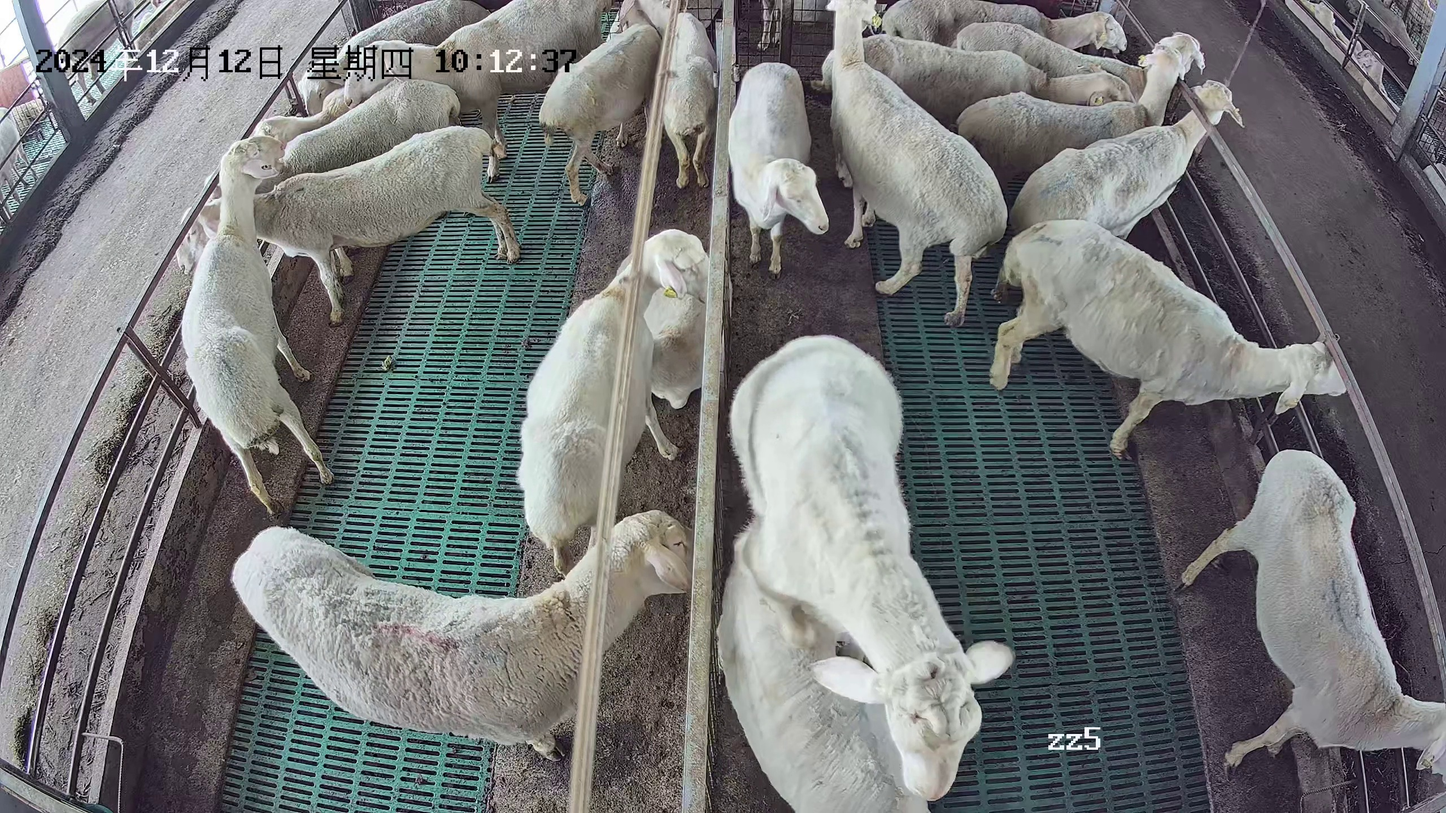Smounting: (710, 333, 1015, 813)
mounted: (714, 523, 928, 813)
